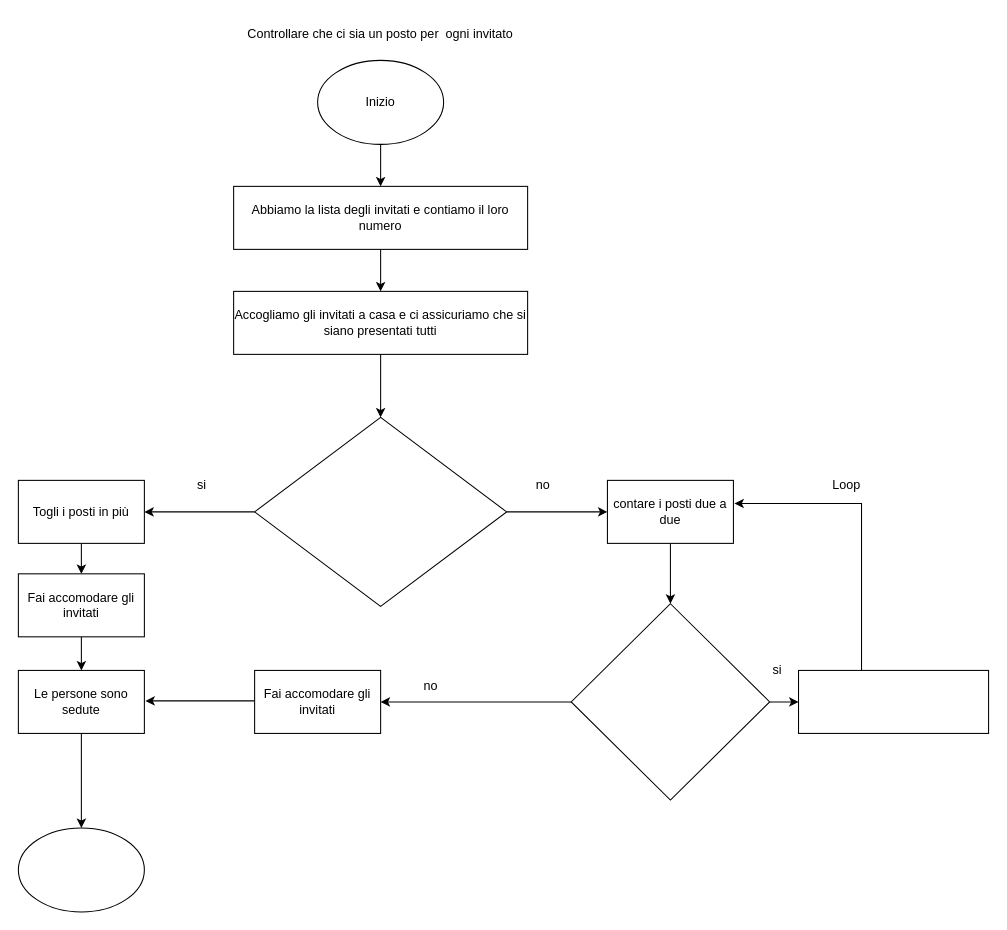
The diagram is 1007 pixels wide and 930 high, and some of its shapes have lost their labels. Here are the shapes that lost their labels. From the top down, the centre of each, then its label:
point (380, 511): le persone che si sono presentate sono minori della lista degli invitati
point (670, 701): i posti sono minori della lista delle persone?
point (893, 701): aggiungi un posto a tavola
point (80, 869): Fine
